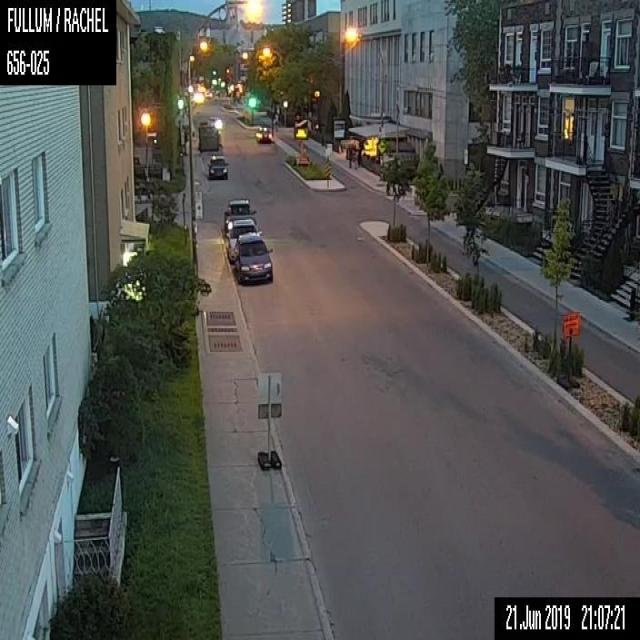construction: (292, 125, 310, 165), (562, 310, 579, 337)
vehicle: (232, 233, 273, 281), (226, 218, 262, 261), (223, 198, 256, 234), (207, 154, 228, 179), (255, 125, 271, 142)
